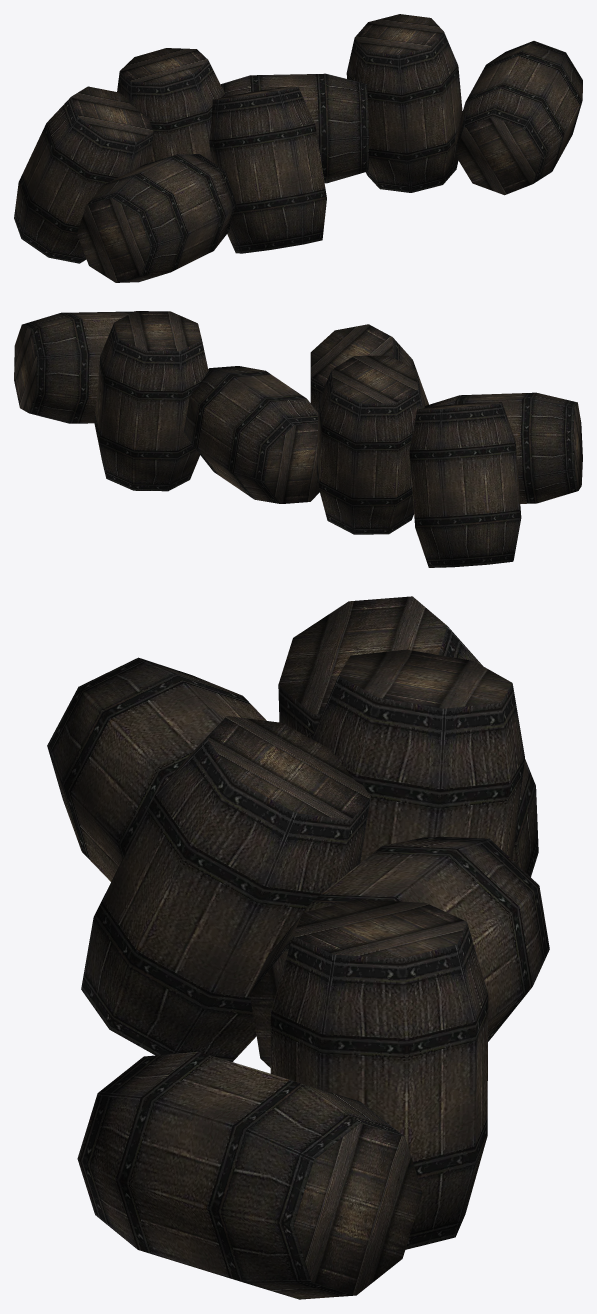
File: NW_HARBOUR_BARRELGROUP_02.glb
3 views of the same model, one above another, from view 1: azimuth 30°, elevation 25°; view 2: azimuth 150°, elevation 25°; view 3: azimuth 270°, elevation 25° (orthographic). The views are drawn at different scales.
Parts seen in each view (by area): view 1: Mesh; view 2: Mesh; view 3: Mesh.
Boxes of the visible parts, bbox=[...] form: Mesh: bbox=[14, 14, 582, 282]; Mesh: bbox=[14, 311, 582, 567]; Mesh: bbox=[47, 596, 549, 1299].
Size of the model in its own units: 4.34 by 1.36 by 1.79.
Materials: 1 (1 with a texture image).
